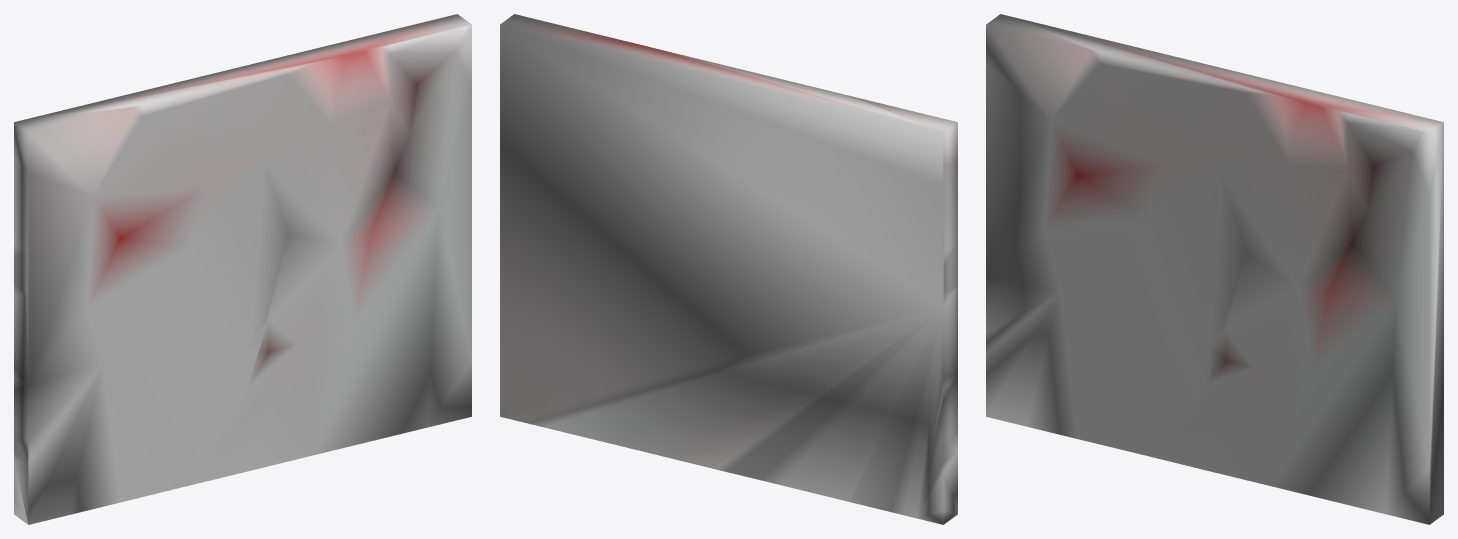
Rendered from SM_FA_Factory_W355_H300.fbx.
3 views of the same model, side by side, from view 1: azimuth 30°, elevation 25°; view 2: azimuth 150°, elevation 25°; view 3: azimuth 330°, elevation 25° (orthographic).
Parts seen in each view (by area): view 1: SM_FA_Factory_W355_H300; view 2: SM_FA_Factory_W355_H300; view 3: SM_FA_Factory_W355_H300.
Boxes of the visible parts, x1,y1,x2,y2 form: SM_FA_Factory_W355_H300: [14, 14, 471, 524]; SM_FA_Factory_W355_H300: [500, 14, 957, 524]; SM_FA_Factory_W355_H300: [986, 14, 1443, 524].
Size of the model in its own units: 355 by 20 by 300.
